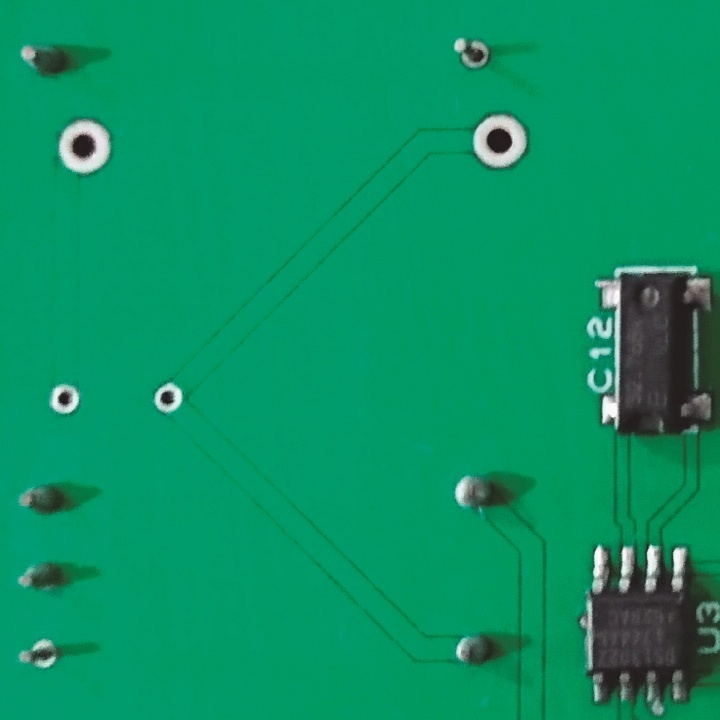F: (470, 108, 535, 175), (57, 117, 118, 179), (448, 33, 490, 75), (16, 636, 61, 675), (151, 378, 190, 422), (45, 383, 84, 418)
